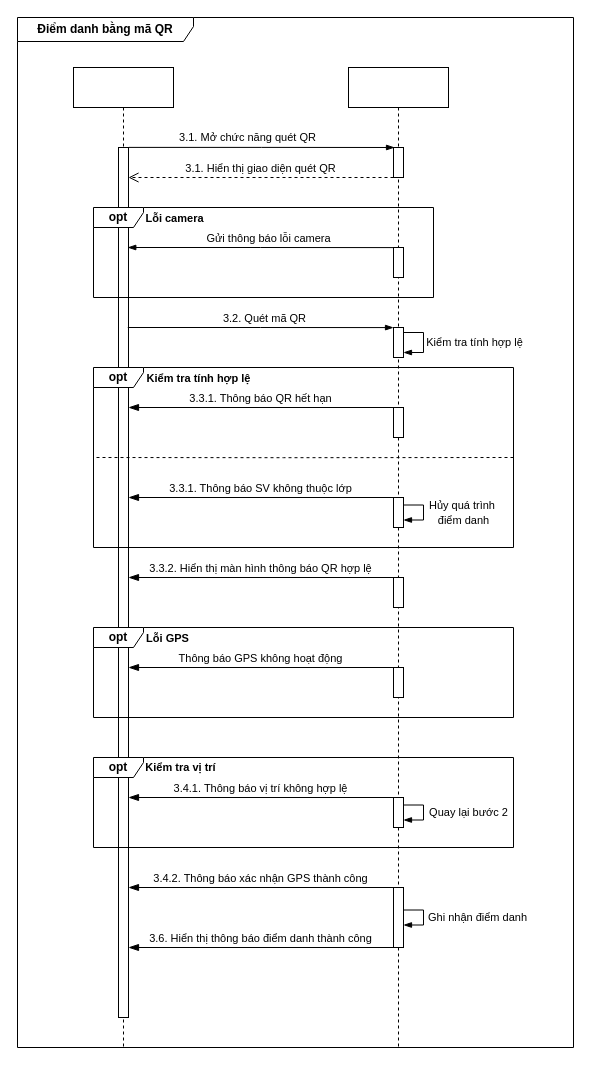
Some shapes in this 591 by 1065 pixel diagram are drawn without their labels. The shapes that lost their labels are listed below. From the top down, each one's box as (x1, y1, x2, y2) in pixels, then its label:
(72, 66, 174, 1048): :Sinh viên
(348, 66, 448, 1048): :FacePlus
